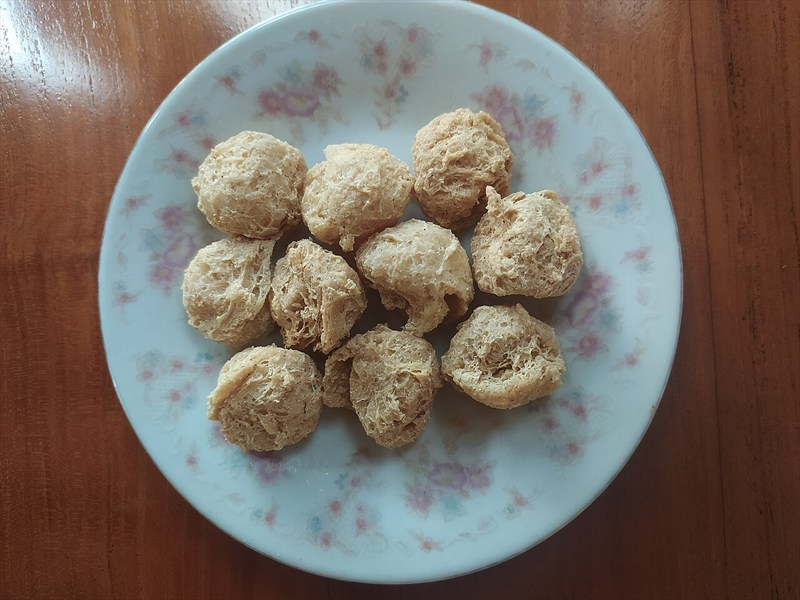Tahu Goreng: (82, 29, 678, 561)
